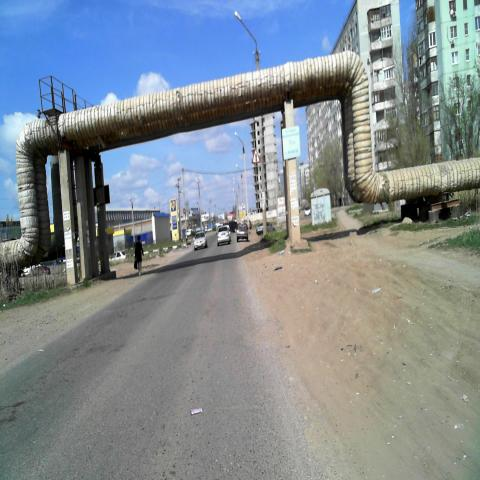2_3_2: (252, 149, 260, 163)
